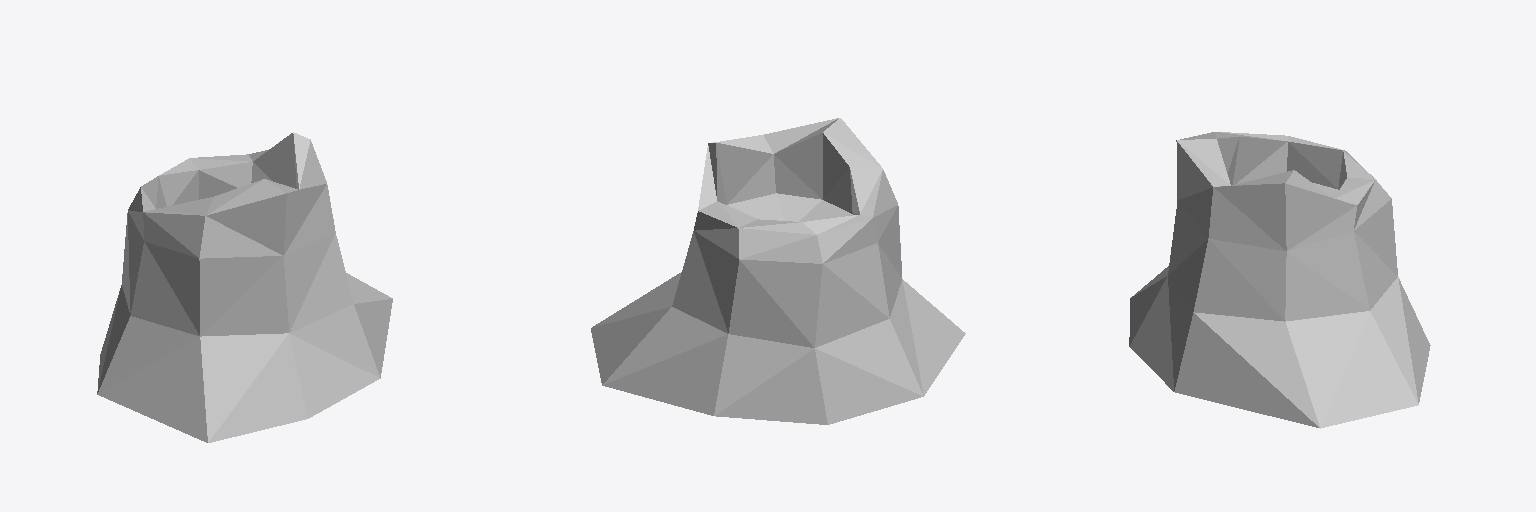
File: tree_stump_2.obj
3 views of the same model, side by side, from view 1: azimuth 30°, elevation 25°; view 2: azimuth 150°, elevation 25°; view 3: azimuth 270°, elevation 25° (orthographic).
Parts seen in each view (by area): view 1: tree_stump_2; view 2: tree_stump_2; view 3: tree_stump_2.
Boxes of the visible parts, x1=… form: tree_stump_2: x1=97, y1=132, x2=392, y2=442; tree_stump_2: x1=591, y1=118, x2=965, y2=424; tree_stump_2: x1=1129, y1=132, x2=1430, y2=428.
Size of the model in its own units: 1.56 by 1.02 by 1.3.